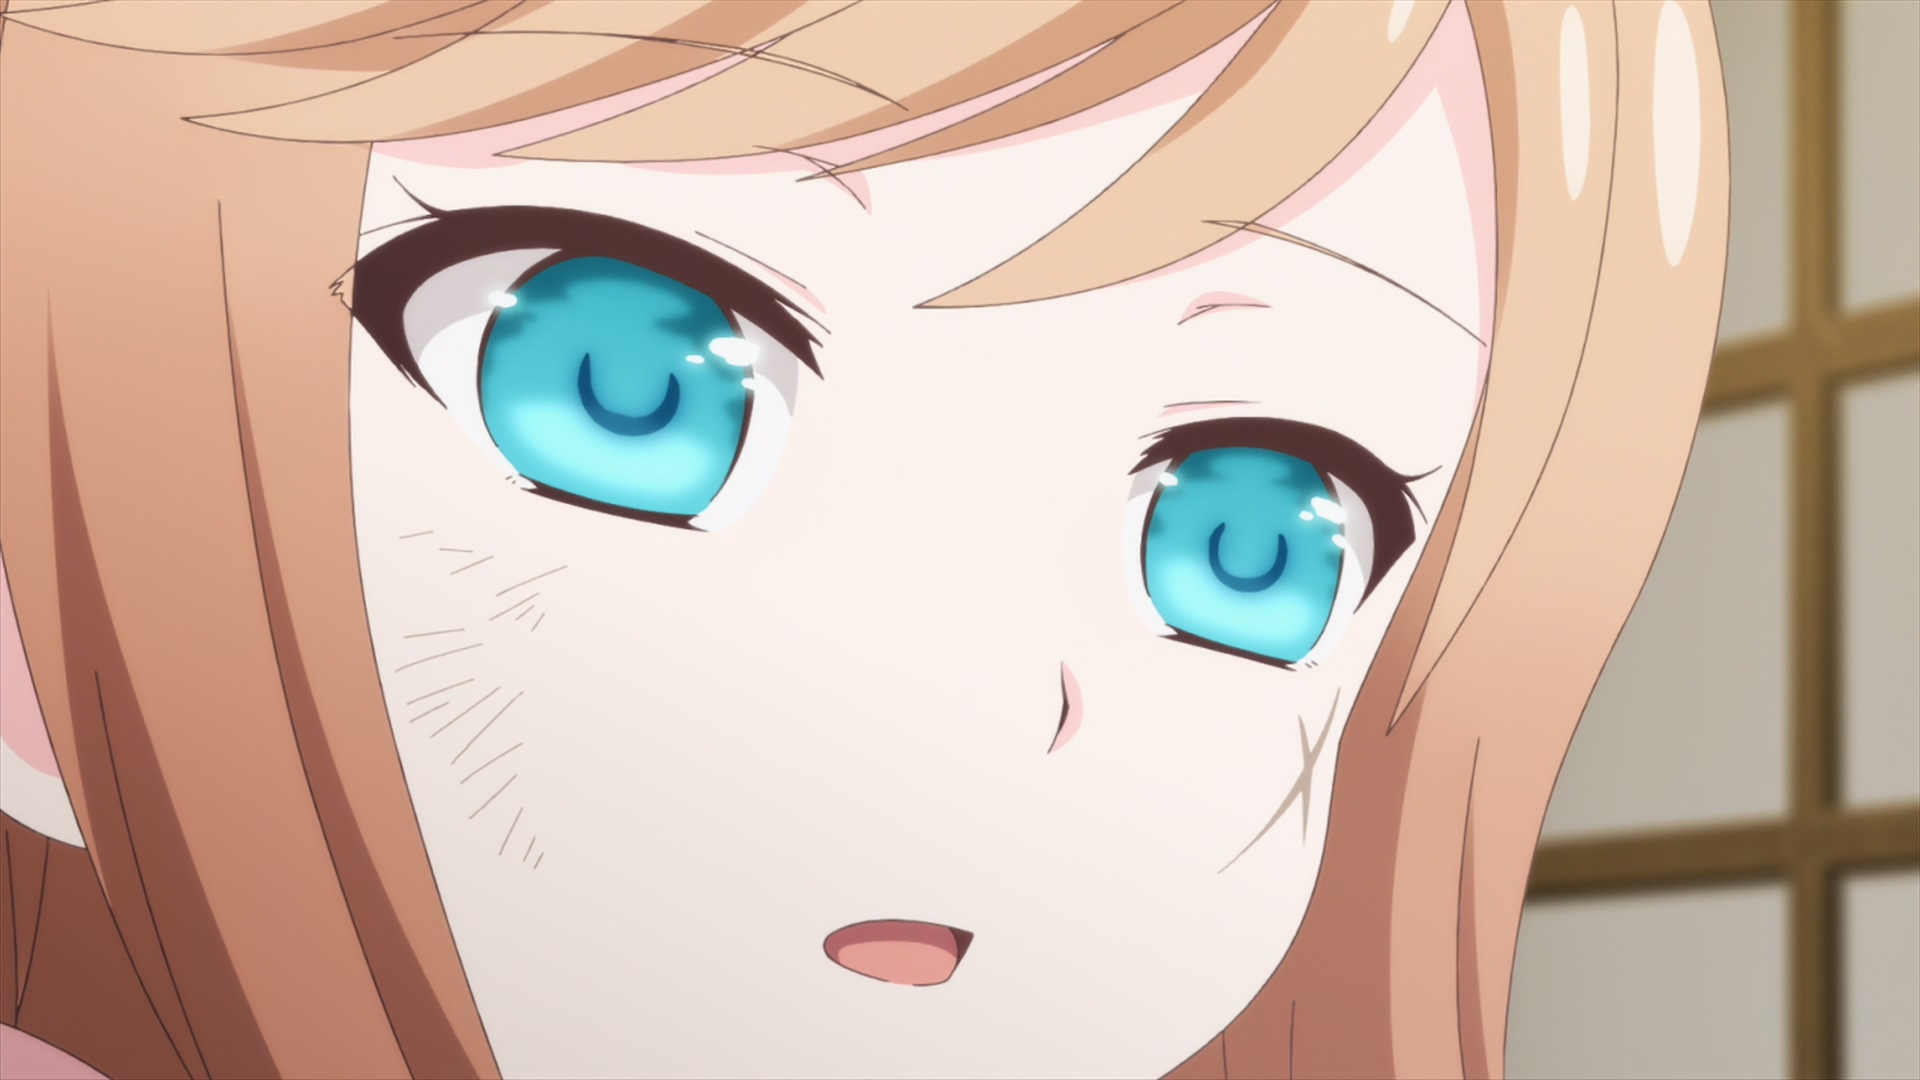其他: (1, 1, 1730, 1080)
